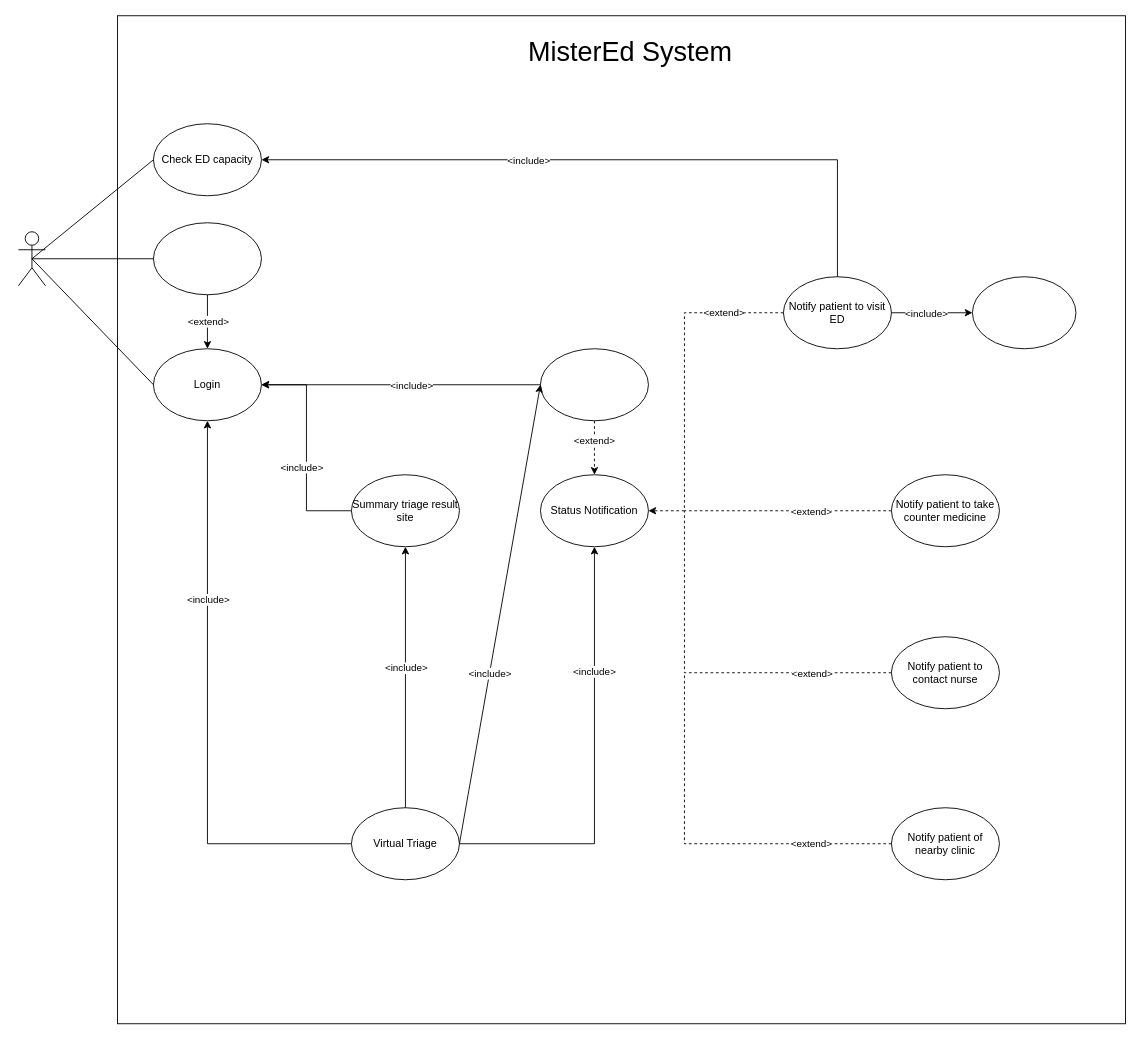
Some shapes in this 1141 by 1047 pixel diagram are drawn without their labels. The centre of each missing label's shape, as x and y in pixels:
"Notify user when a spot is available." goes at point (1024, 312).
"Patient" goes at point (31, 258).
"Registration" goes at point (207, 258).
"View detail triage result" goes at point (594, 384).
